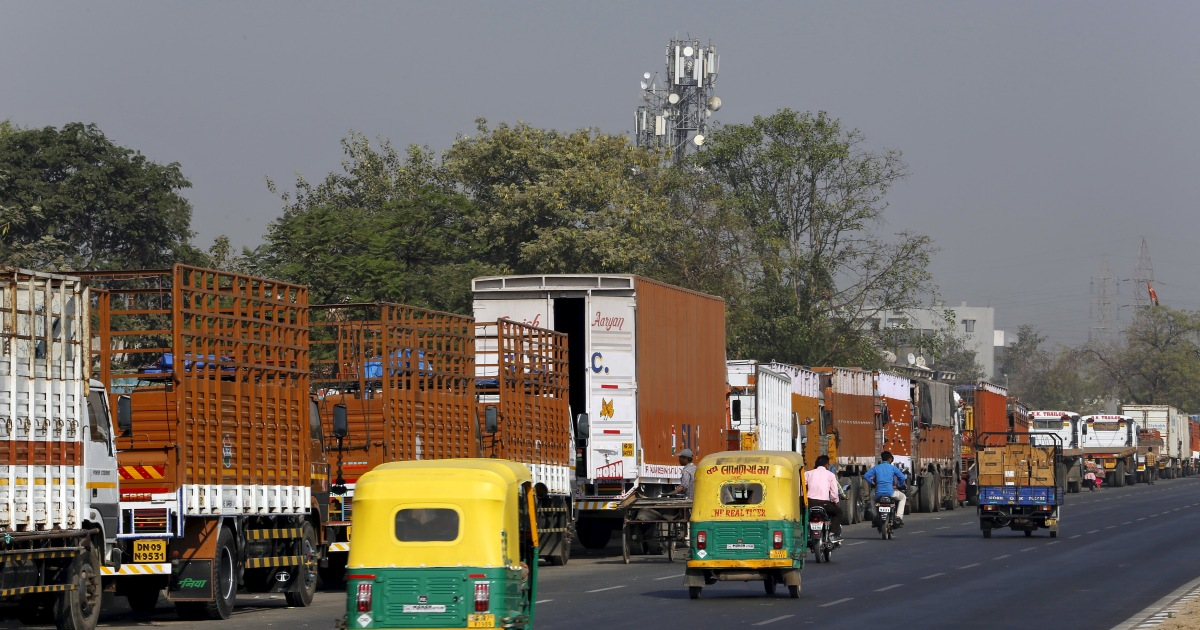bike: (805, 456, 842, 563), (869, 453, 906, 542)
rickshaw: (351, 461, 537, 630), (685, 451, 806, 600), (976, 429, 1062, 536)
truck: (88, 273, 330, 608), (478, 279, 722, 538), (312, 302, 484, 569), (1, 267, 117, 629), (486, 323, 576, 561), (816, 366, 884, 531), (734, 362, 796, 460), (1127, 406, 1190, 475), (1076, 414, 1134, 485), (962, 386, 1012, 449)
